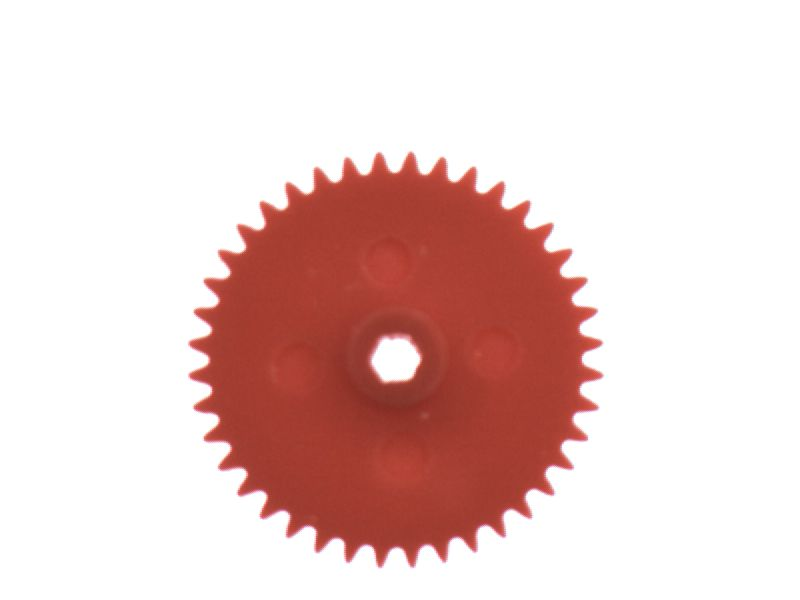good_product: (177, 144, 619, 578)
